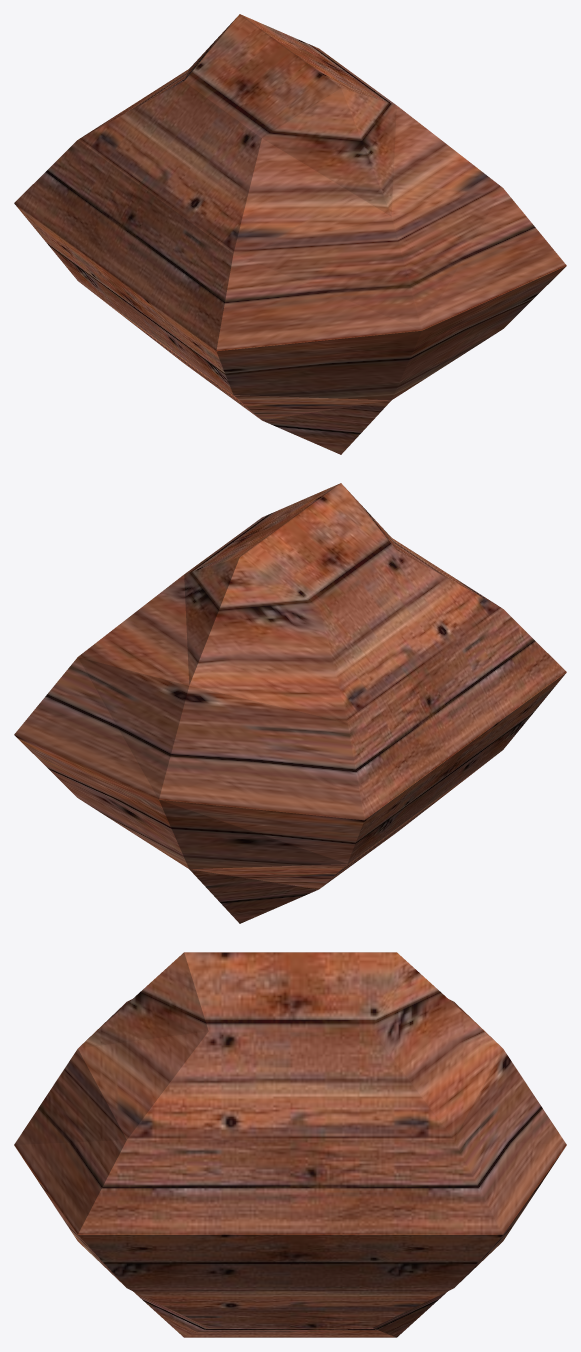
Rendered from convex.obj.
3 renders of one model, top to bottom at view 1: azimuth 30°, elevation 25°; view 2: azimuth 150°, elevation 25°; view 3: azimuth 270°, elevation 25°, orthographic. The views are drawn at different scales.
Size of the model in its own units: 2.6 by 2.6 by 3.38.
1 material, 1 textured.
